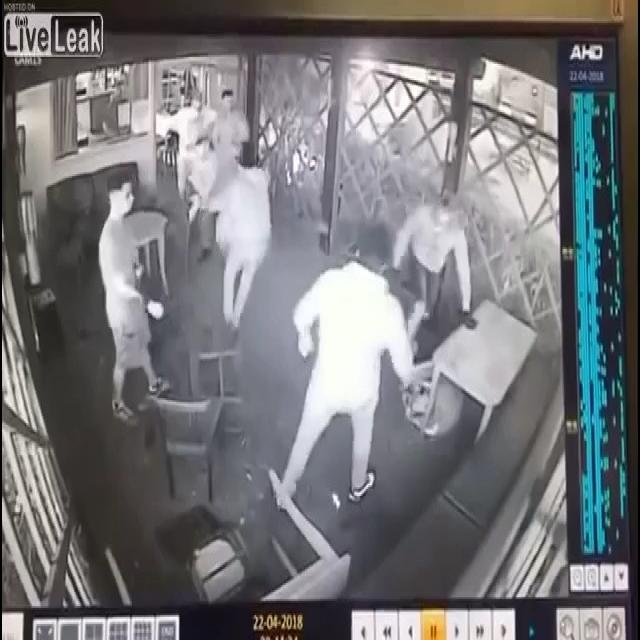fight: (313, 178, 507, 480)
